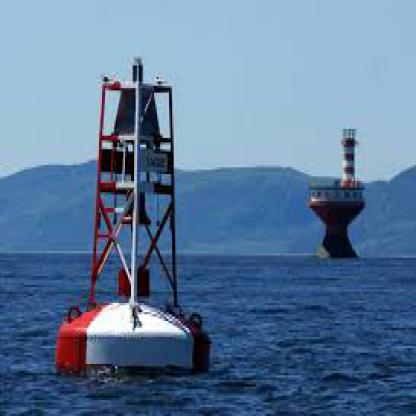buoy: (52, 38, 216, 380)
